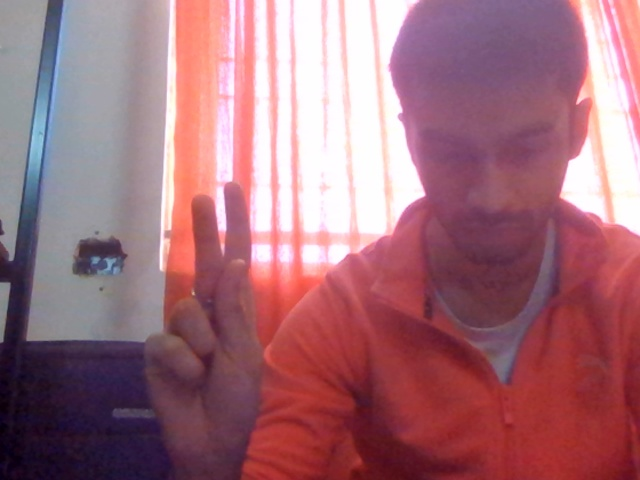K: (116, 169, 309, 480)
